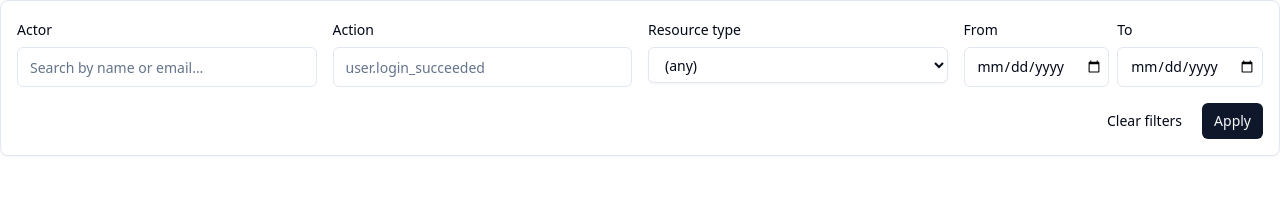
AuditFilters › actor combobox › filters the dropdown by email substring
@placeholder matches Bob and Carol (both legacy backfill).
Type "@placeholder" into the dropdown named "Actor filter".
click(167, 67); type("@placeholder")  # box [17, 47, 316, 87]
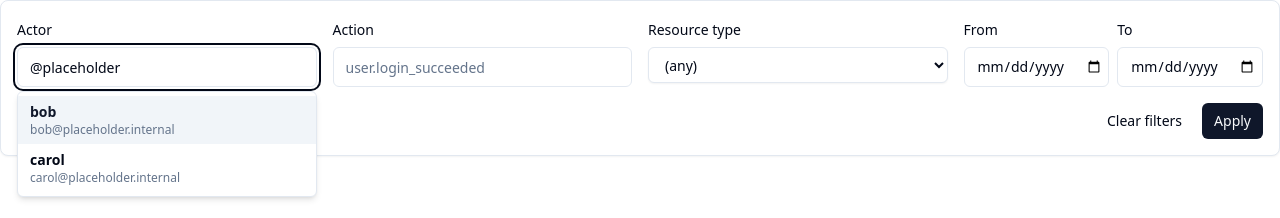
Expected: the option "bob bob@placeholder.internal" is shown, [18, 96, 316, 144]
Expected: the option "carol carol@placeholder.internal" is shown, [30, 150, 180, 186]
Expected: the option "alice" is gone
Narrow to just carol's email.
Replace the text in the dropdown named "Actor filter" with "carol@" at (167,67), box [17, 47, 316, 87]
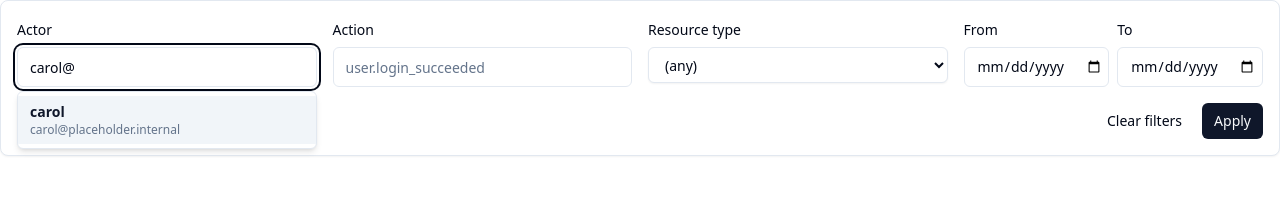
Expected: the option "carol carol@placeholder.internal" is shown, [18, 96, 316, 144]
Expected: the option "bob" is gone
